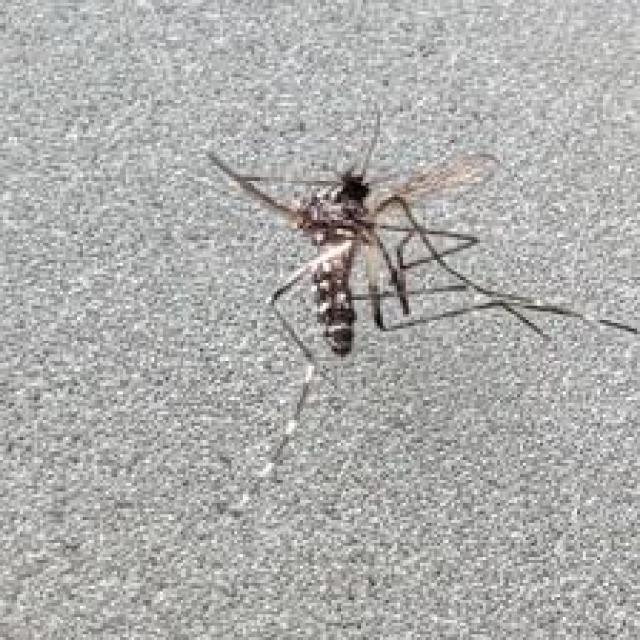Aedes albopictus: (200, 103, 640, 486)
